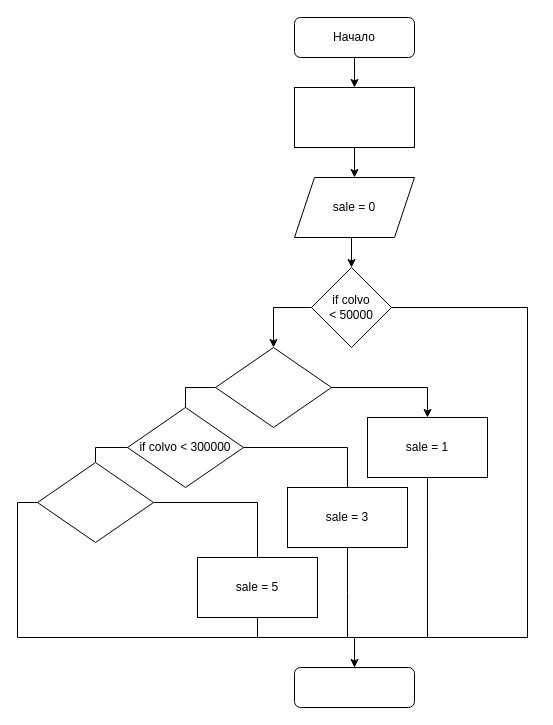
This 553x725 diagram has some shape labels left out. The shapes that lost their labels are listed below. From the top down, each one's centre as x and y in pixels, then its label:
At (354,117): "Получаем Colvo".
At (273,387): "if colvo < 100000".
At (95,502): "if colvo > 300000".
At (354,687): "Конец".
